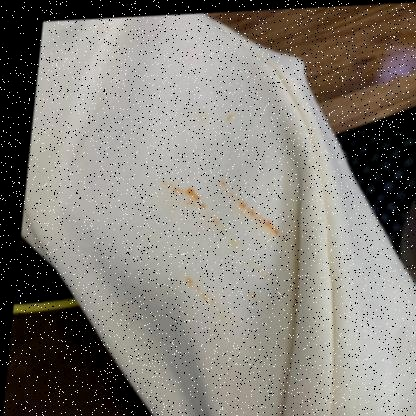kimchi: (263, 219, 289, 242), (187, 281, 208, 303), (179, 186, 202, 205), (241, 199, 261, 220), (217, 114, 230, 128)
